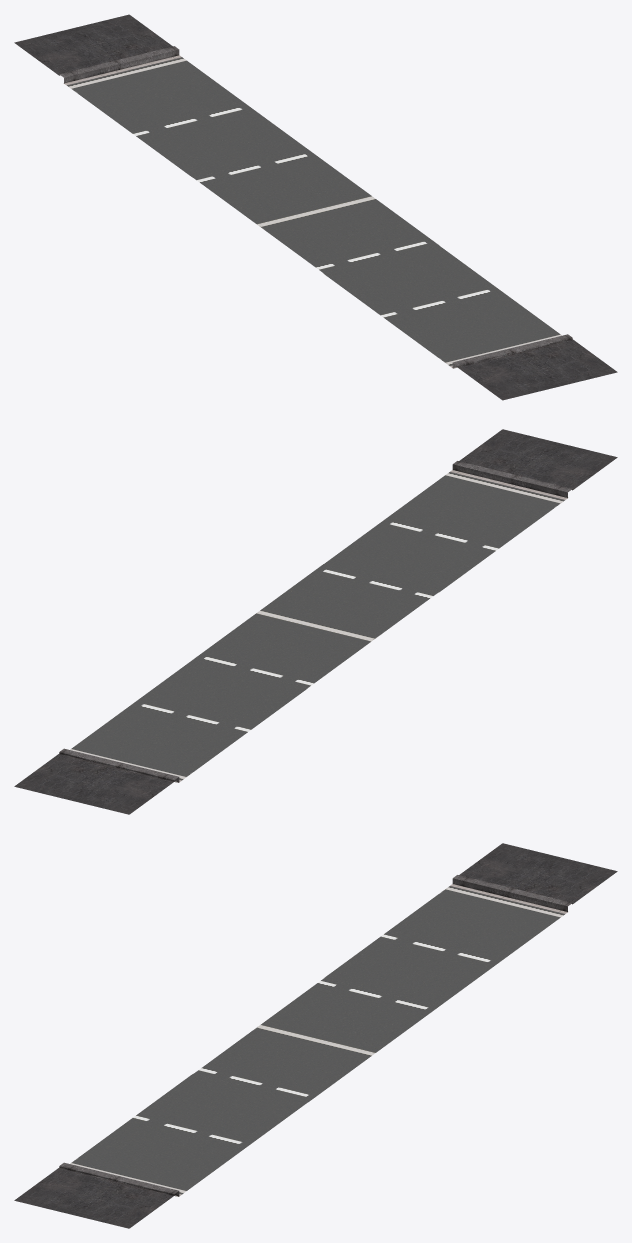
Rendered from 6 lines half.FBX.
3 renders of one model, top to bottom at view 1: azimuth 30°, elevation 25°; view 2: azimuth 150°, elevation 25°; view 3: azimuth 330°, elevation 25°, orthographic.
Parts seen in each view (by area): view 1: Plane242; view 2: Plane242; view 3: Plane242.
Boxes of the visible parts, x1,y1,x2,y2 form: Plane242: [14, 14, 617, 400]; Plane242: [14, 429, 617, 814]; Plane242: [14, 843, 617, 1228].
Size of the model in its own units: 6.03 by 0.3184 by 43.99.
